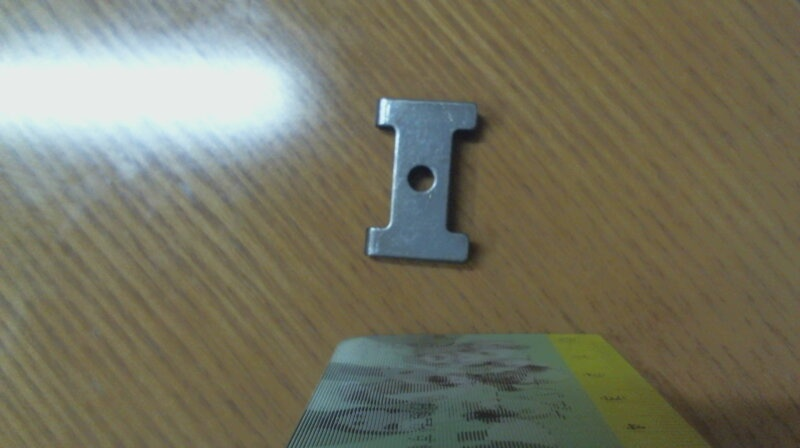O002: (365, 95, 479, 272)
